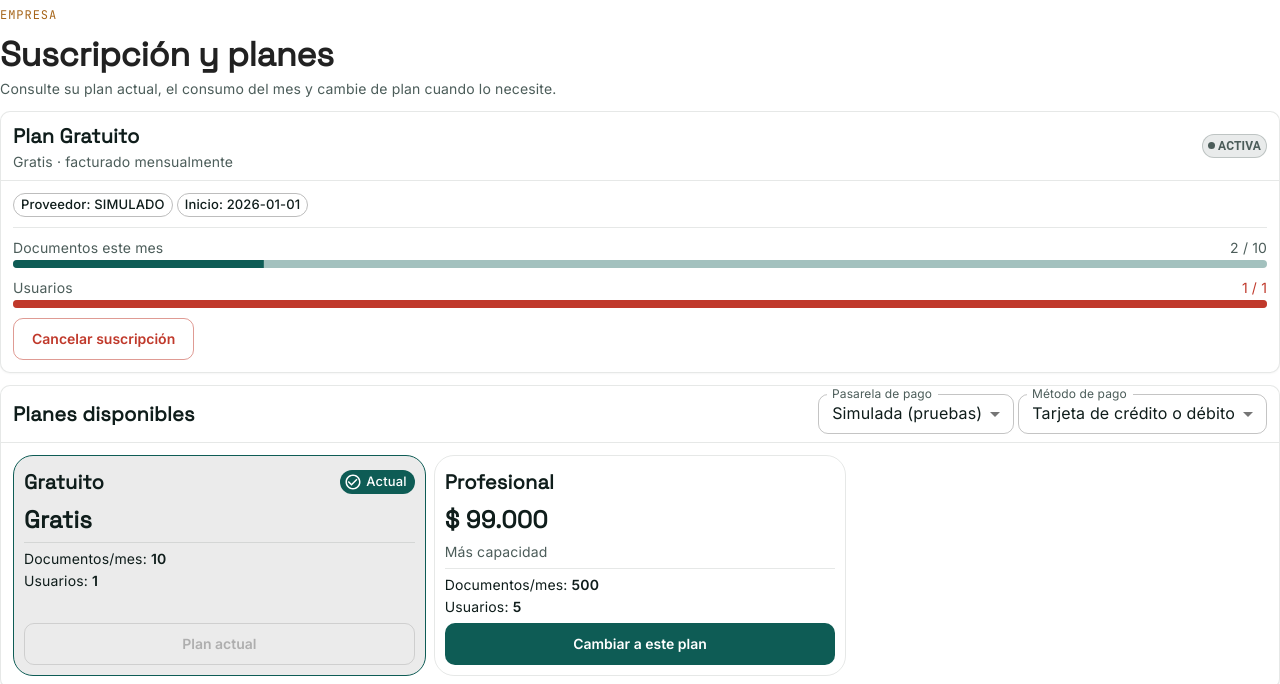
Test: SuscripcionPage › cancela la suscripción activa
This screenshot has width=1280, height=684.
Click the button "Cancelar suscripción" at x=104, y=339, box [13,318,194,360]
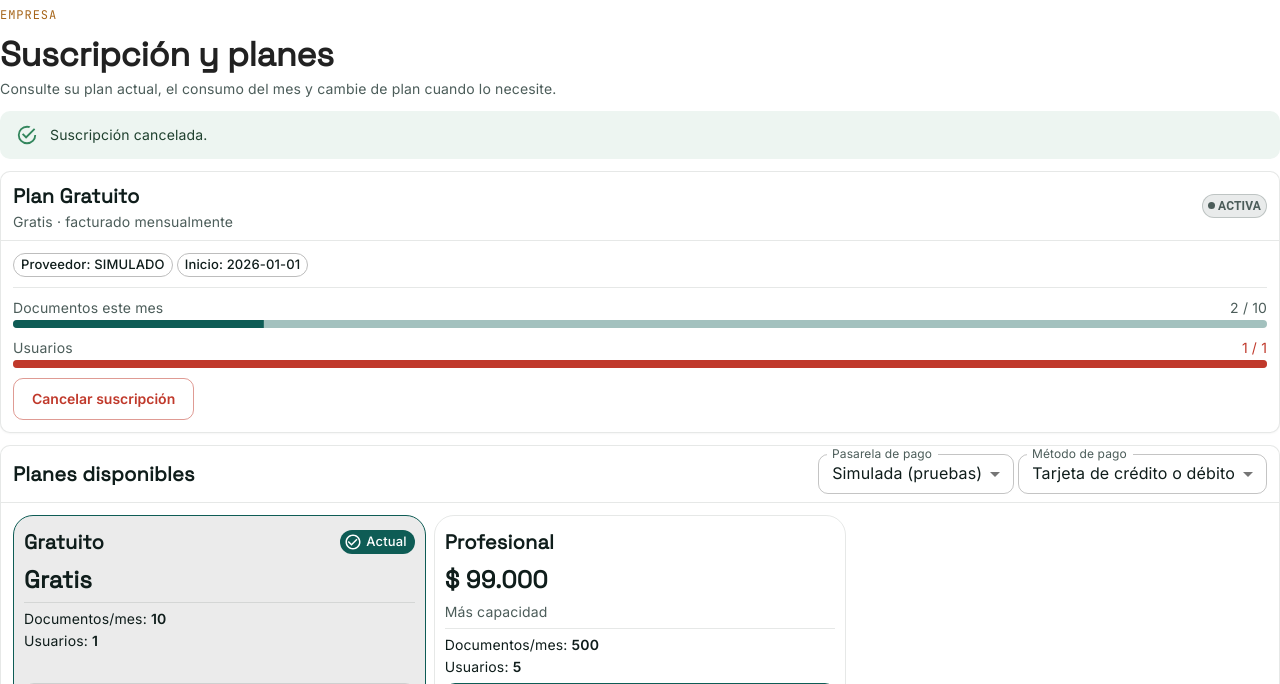
Now the text "Suscripción cancelada." is shown, box [50,126,208,143]
